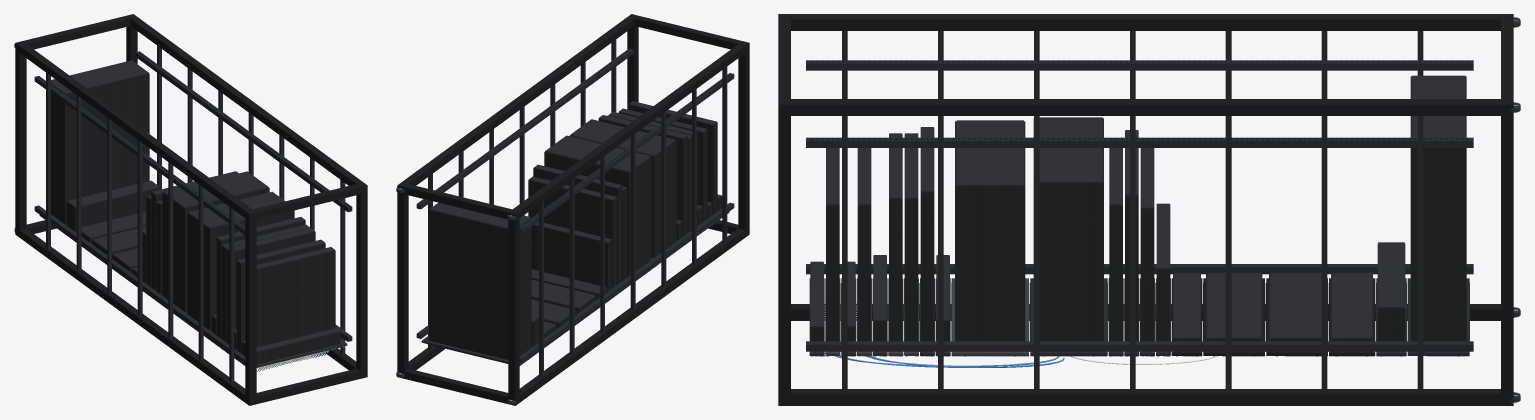
File: juniper-core-42u.glb
3 views of the same model, side by side, from view 1: azimuth 30°, elevation 25°; view 2: azimuth 150°, elevation 25°; view 3: azimuth 270°, elevation 25° (orthographic). The views are drawn at different scales.
Parts seen in each view (by area): view 1: RACK_FRAME__nexus_black_dark, SIDE_BRACES__nexus_black, JUNIPER_UPS__steel_textured, EX4400_48MP__steel_textured, MOUNTING_RAILS__nexus_black, EX9204__steel_textured, MX240__steel_textured, JUNIPER_PDU__steel_textured, MX240__juniper_graphite_dark, JUNIPER_UPS__juniper_graphite_dark, QFX5120_A__steel_textured, EX4300_48T__steel_textured (+17 smaller); view 2: RACK_FRAME__nexus_black_dark, JUNIPER_UPS__steel_textured, SIDE_BRACES__nexus_black, MOUNTING_RAILS__nexus_black, CONSOLE_SERVER__steel_textured, MX240__steel_textured, SRX1500__steel_textured, EX9204__steel_textured, EX9204__juniper_graphite_dark, MX240__juniper_graphite_dark, QFX5220_32CD__steel_textured, EX4400_48MP__steel_textured (+14 smaller); view 3: RACK_FRAME__nexus_black_dark, MOUNTING_RAILS__nexus_black, SIDE_BRACES__nexus_black, EX9204__steel_textured, MX240__steel_textured, JUNIPER_UPS__steel_textured, EX9204__juniper_graphite_dark, MX240__juniper_graphite_dark, BLANK_BASE__juniper_graphite_dark, BLANK_LOW__juniper_graphite_dark, BLANK_FOOT__juniper_graphite_dark, JUNIPER_UPS__juniper_graphite_dark (+30 smaller).
Part boxes in pixels (<box>): RACK_FRAME__nexus_black_dark: <box>15,14,367,405</box>; SIDE_BRACES__nexus_black: <box>46,45,345,383</box>; JUNIPER_UPS__steel_textured: <box>51,73,149,224</box>; EX4400_48MP__steel_textured: <box>256,250,335,347</box>; MOUNTING_RAILS__nexus_black: <box>34,51,352,364</box>; EX9204__steel_textured: <box>187,210,294,330</box>; MX240__steel_textured: <box>162,187,269,312</box>; JUNIPER_PDU__steel_textured: <box>66,187,159,232</box>; MX240__juniper_graphite_dark: <box>163,171,268,208</box>; JUNIPER_UPS__juniper_graphite_dark: <box>51,60,148,93</box>; QFX5120_A__steel_textured: <box>226,232,315,344</box>; EX4300_48T__steel_textured: <box>236,243,325,353</box>; RACK_FRAME__nexus_black_dark: <box>397,14,749,405</box>; JUNIPER_UPS__steel_textured: <box>429,210,531,359</box>; SIDE_BRACES__nexus_black: <box>428,39,727,376</box>; MOUNTING_RAILS__nexus_black: <box>416,48,734,363</box>; CONSOLE_SERVER__steel_textured: <box>531,225,612,291</box>; MX240__steel_textured: <box>544,152,651,276</box>; SRX1500__steel_textured: <box>528,180,617,288</box>; EX9204__steel_textured: <box>569,135,676,258</box>; EX9204__juniper_graphite_dark: <box>570,119,675,155</box>; MX240__juniper_graphite_dark: <box>545,135,650,172</box>; QFX5220_32CD__steel_textured: <box>598,119,687,236</box>; EX4400_48MP__steel_textured: <box>628,105,717,214</box>; RACK_FRAME__nexus_black_dark: <box>778,14,1513,405</box>; MOUNTING_RAILS__nexus_black: <box>806,60,1473,351</box>; SIDE_BRACES__nexus_black: <box>842,31,1423,392</box>; EX9204__steel_textured: <box>955,121,1025,341</box>; MX240__steel_textured: <box>1033,118,1103,341</box>; JUNIPER_UPS__steel_textured: <box>1410,76,1466,341</box>; EX9204__juniper_graphite_dark: <box>956,120,1023,186</box>; MX240__juniper_graphite_dark: <box>1039,117,1102,182</box>; BLANK_BASE__juniper_graphite_dark: <box>1270,273,1321,338</box>; BLANK_LOW__juniper_graphite_dark: <box>1207,273,1260,338</box>; BLANK_FOOT__juniper_graphite_dark: <box>1332,273,1372,338</box>; JUNIPER_UPS__juniper_graphite_dark: <box>1412,75,1465,137</box>.
Size of the model in its own units: 0.609 by 0.9399 by 2.1.
Materials: 25 (4 with a texture image).
